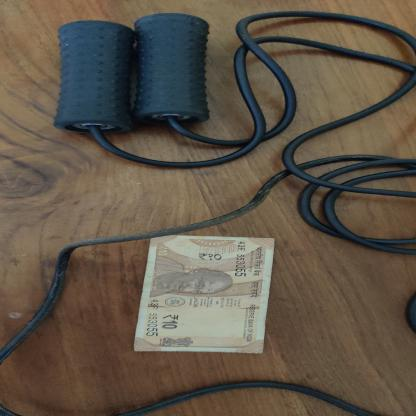New10Front: (130, 233, 280, 356)
